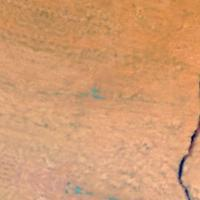crack: (164, 121, 199, 199)
